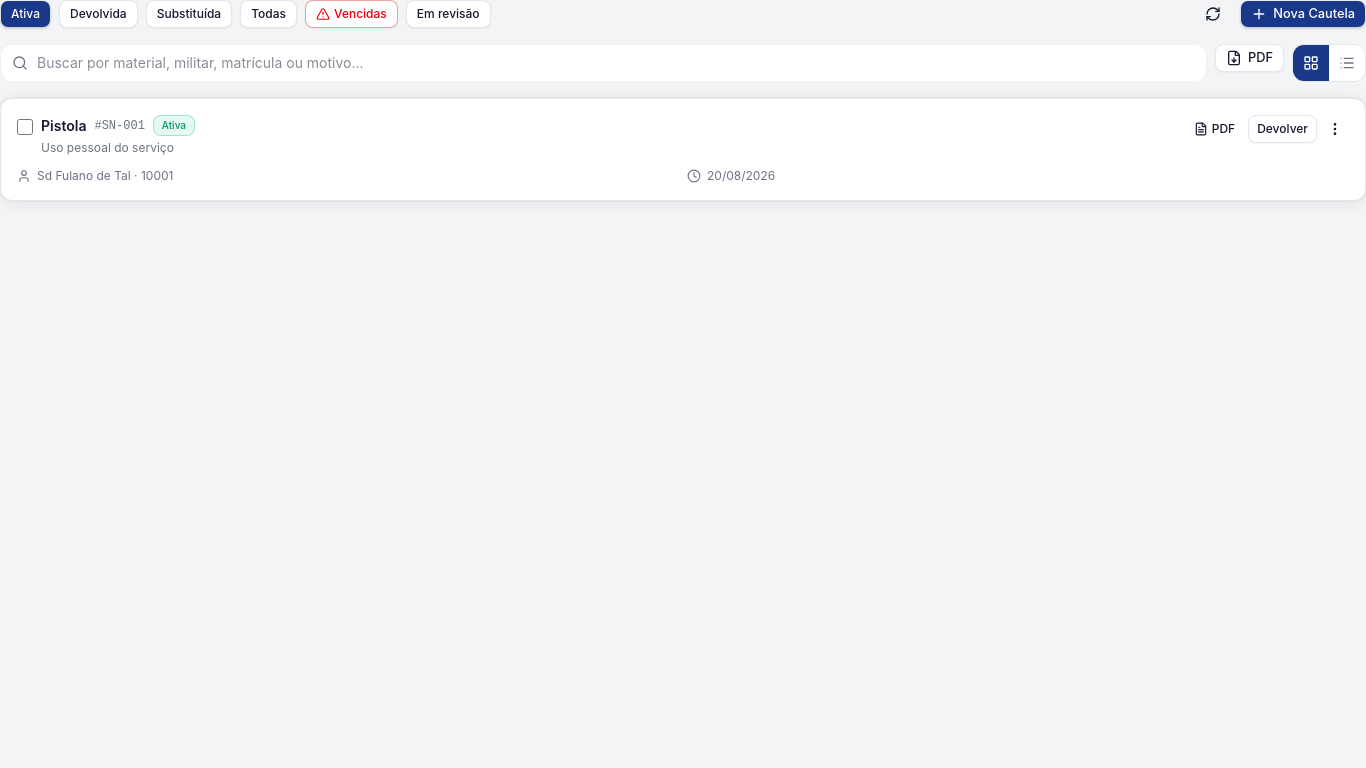
Test: CautelasClient — dialog de detalhe › clicar no card abre o detalhe; clicar no checkbox não abre nada
The width and height of the screenshot is (1366, 768).
Expected: the number of elements with test id "cautela-row" is 1, x1=0 y1=98 x2=1365 y2=201
Click the checkbox named "Selecionar cautela de Pistola" at x=25, y=127, box x1=17 y1=119 x2=33 y2=135
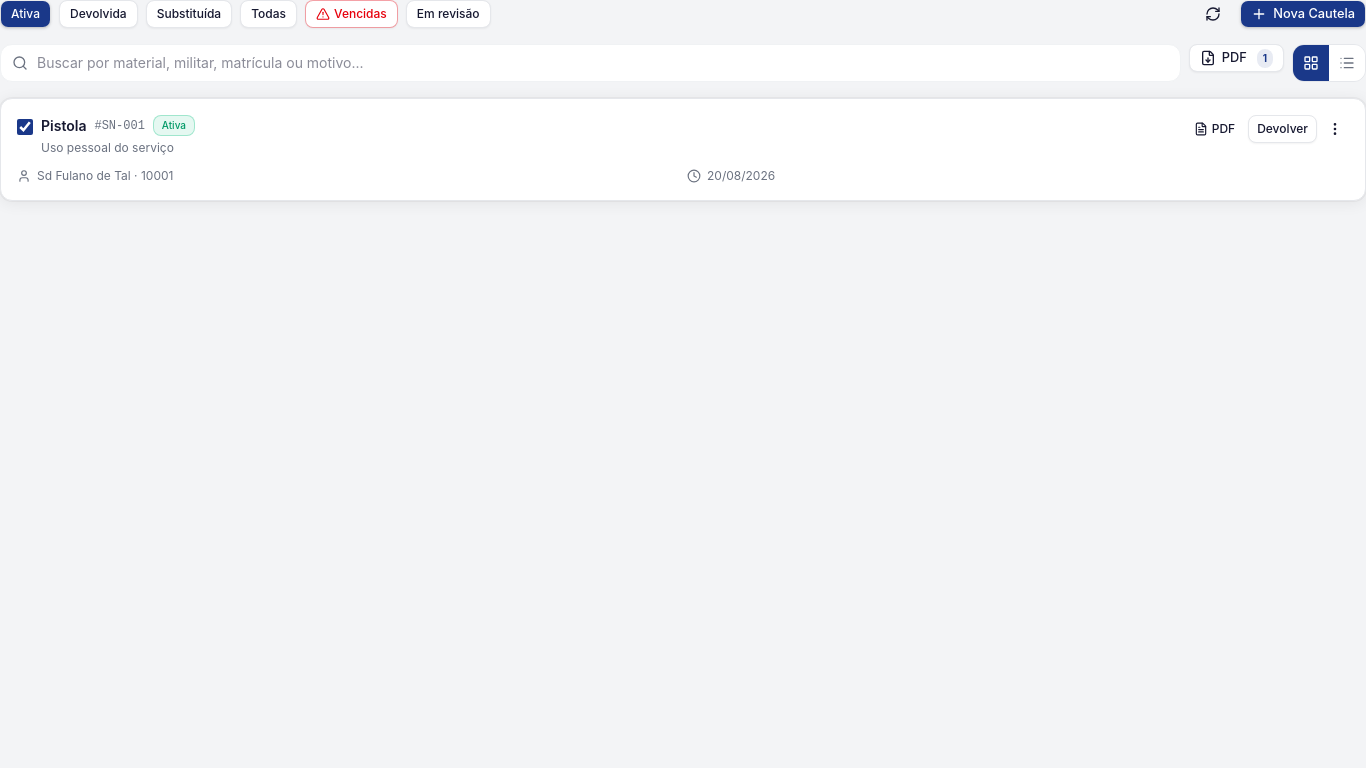
Expected: the text "Militar responsável" is not shown
Click the element with test id "cautela-row" at x=683, y=150, box x1=0 y1=98 x2=1365 y2=201
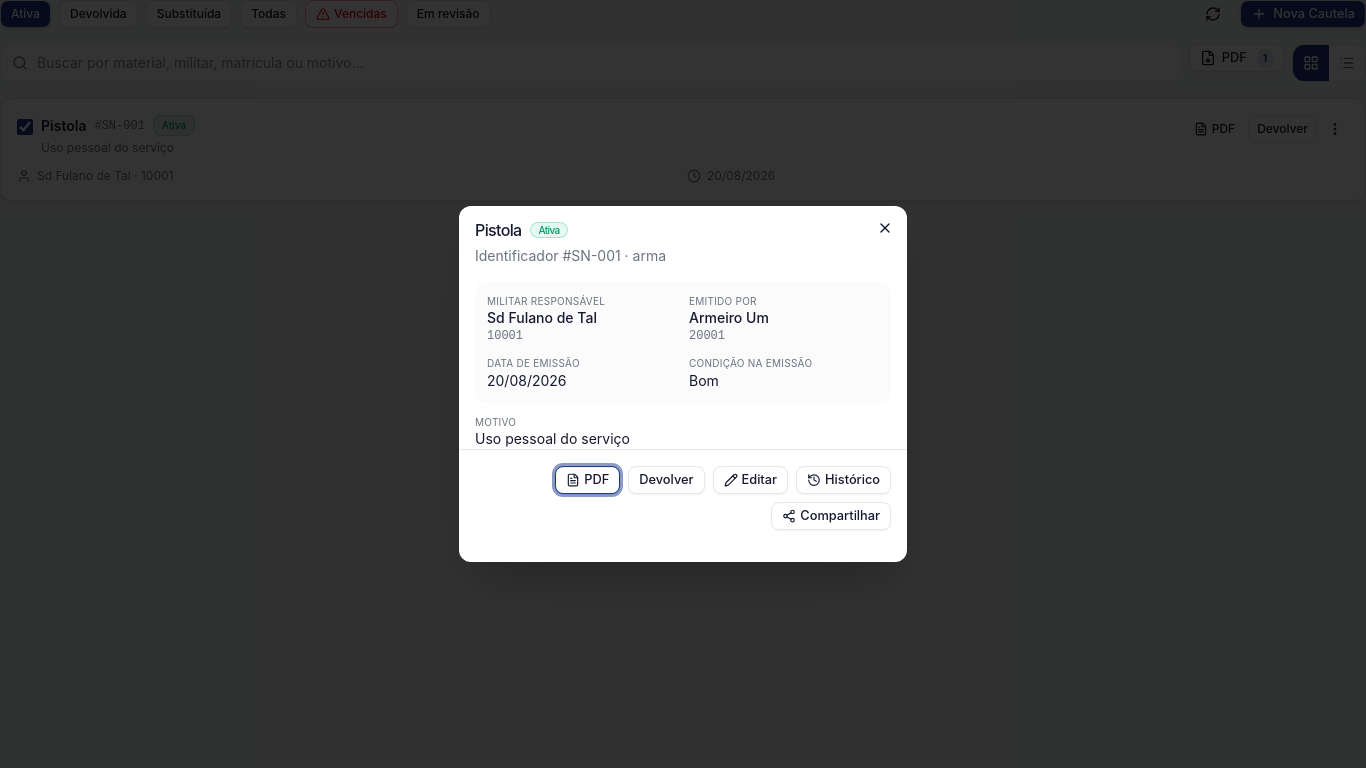
Expected: the text "Militar responsável" is shown, x1=487 y1=295 x2=605 y2=307
Expected: the text "Sd Fulano de Tal" is shown, x1=487 y1=309 x2=597 y2=326
